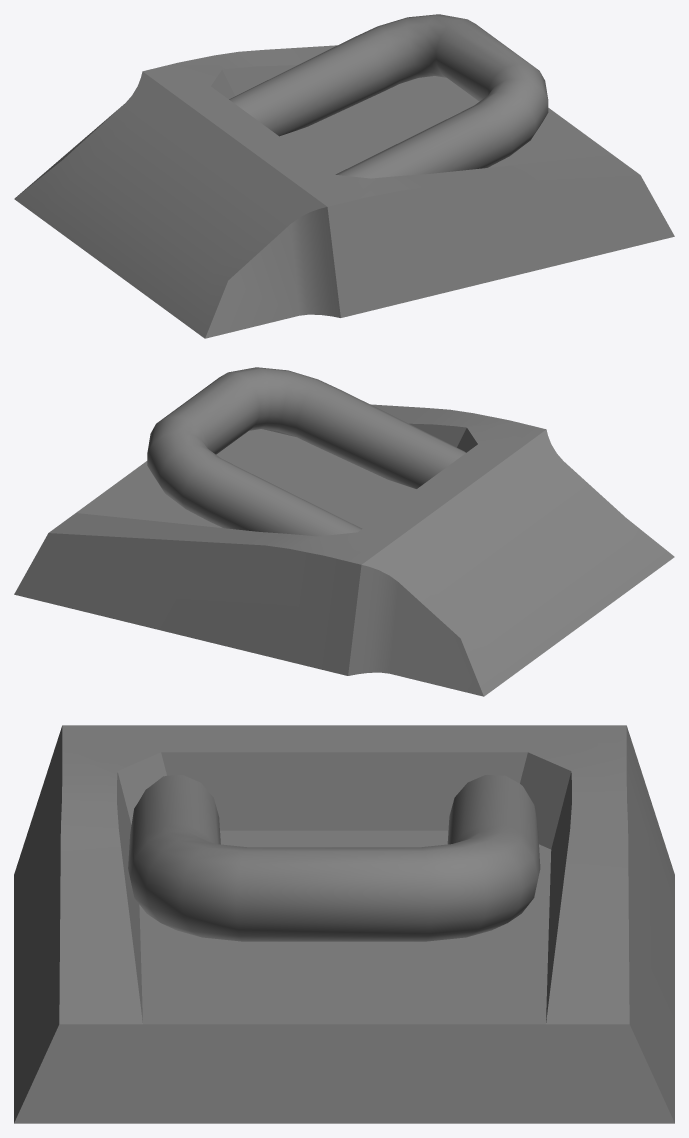
The model's file is q-scifi-mod-prop-clamp.glb.
3 renders of one model, top to bottom at view 1: azimuth 30°, elevation 25°; view 2: azimuth 150°, elevation 25°; view 3: azimuth 270°, elevation 25°, orthographic. The views are drawn at different scales.
Parts seen in each view (by area): view 1: Prop_Clamp; view 2: Prop_Clamp; view 3: Prop_Clamp.
Part boxes in pixels (bbox=[...]): Prop_Clamp: bbox=[14, 14, 674, 338]; Prop_Clamp: bbox=[14, 367, 674, 696]; Prop_Clamp: bbox=[14, 725, 674, 1123].
Bounding box in the file's own units: 0.5605 × 0.1617 × 0.4602.
2 materials, 2 textured.
